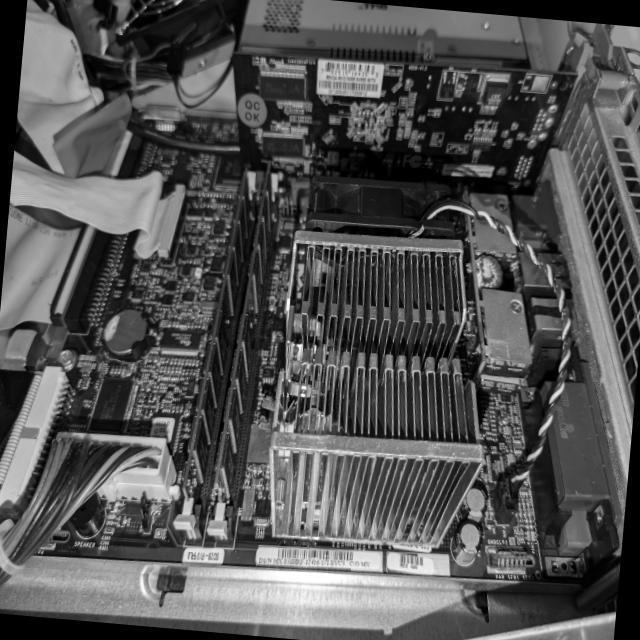CPU_Fan: (263, 172, 506, 556)
Mainboard: (23, 96, 640, 602)
RAM: (173, 163, 260, 542), (205, 159, 283, 547)
